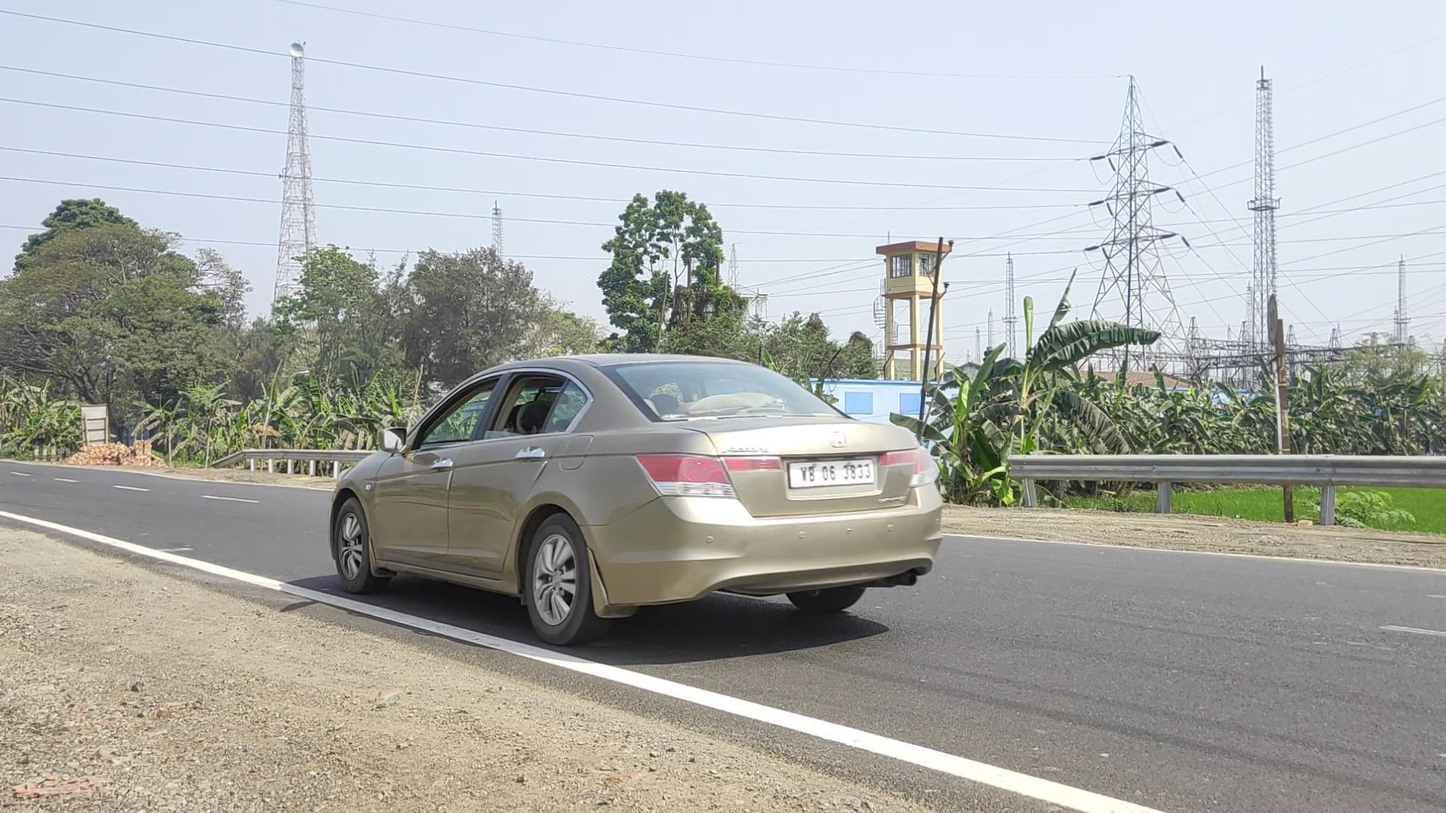car: (328, 355, 943, 647)
